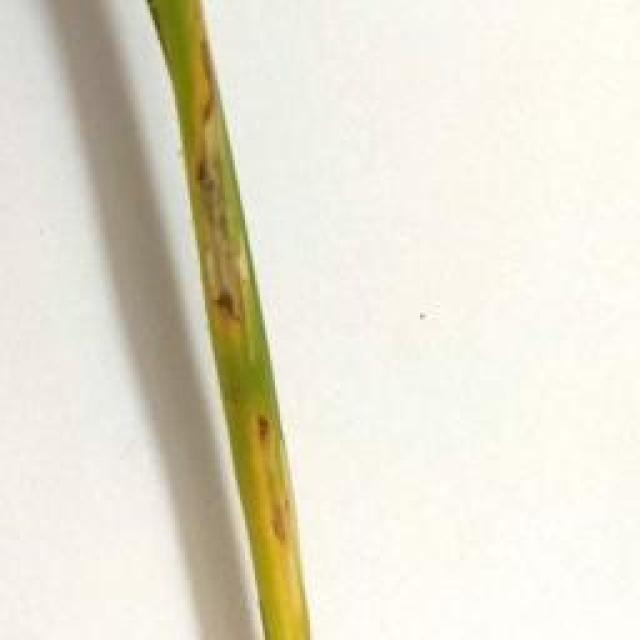Rice_Blast: (187, 39, 247, 382), (235, 411, 318, 584)
